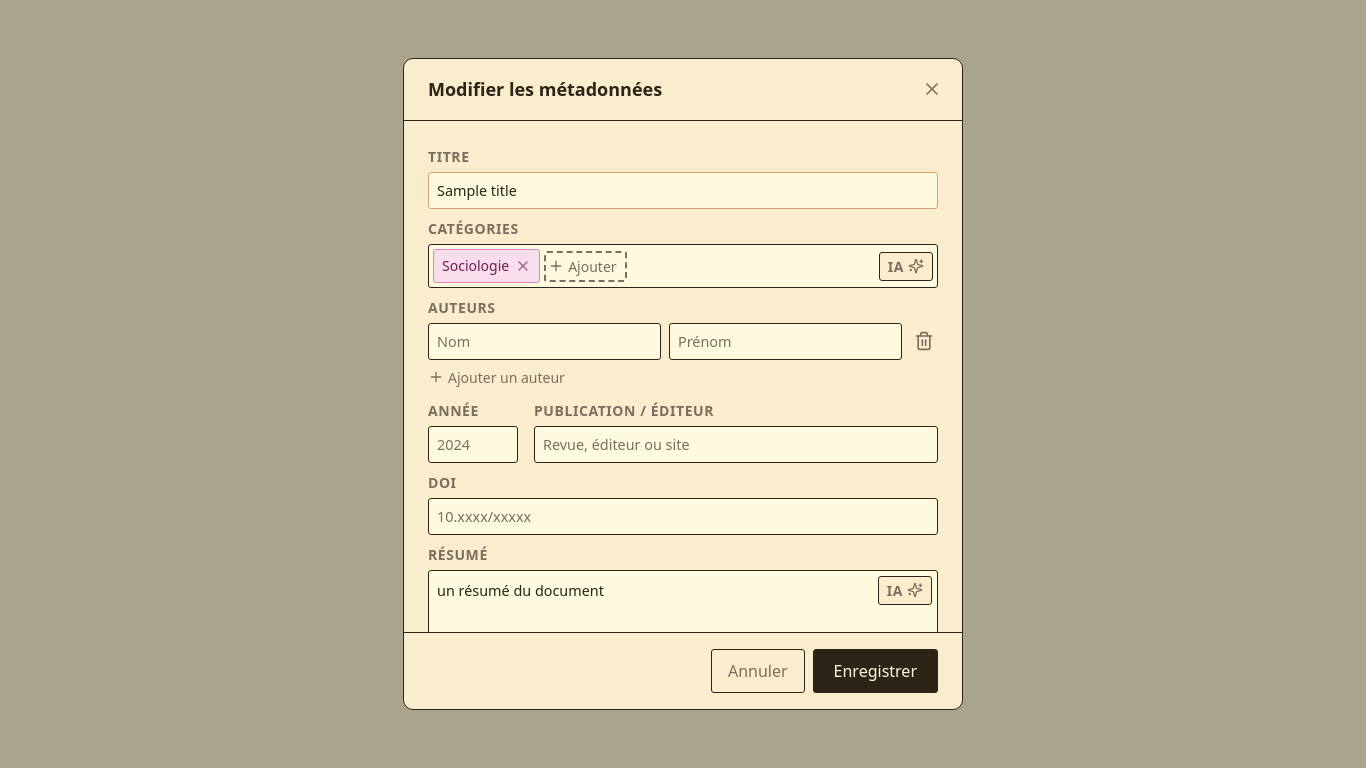
Test case: MetadataModal — handleGenerateAbstract › IA categories: derives categories from the abstract via /categorize and dedups
Click the button with aria-label "générer des catégories avec l’IA": (906, 266) [879,252,933,280]
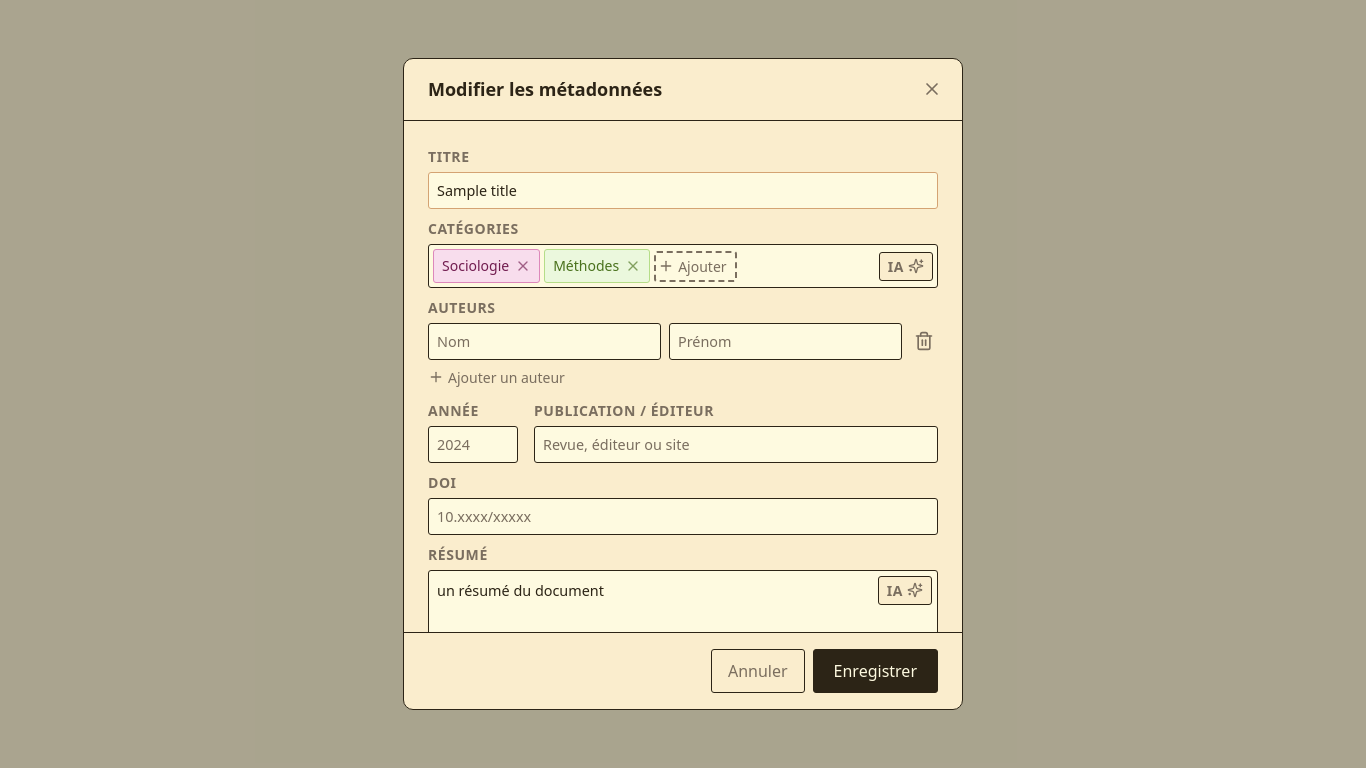
Expected: the text "Sociologie" is shown once, [433,250,540,283]
Expected: the text "Méthodes" is shown, [544,250,650,283]
